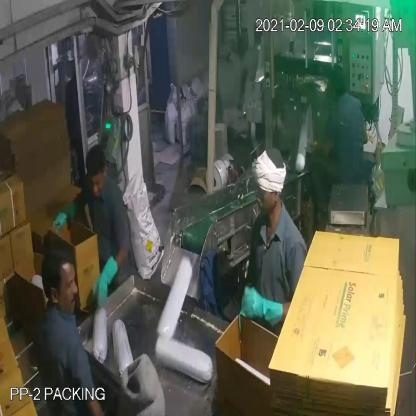glove: (235, 276, 286, 334), (85, 252, 124, 315), (50, 198, 84, 236)
